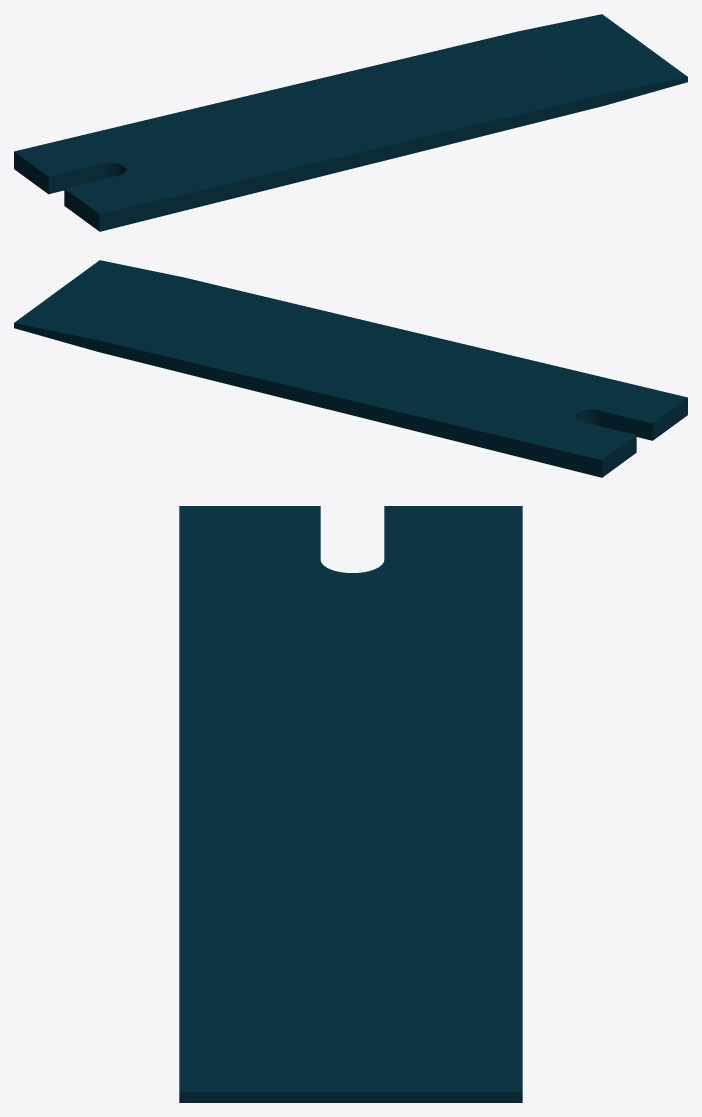
File: SSD component.glb
3 views of the same model, one above another, from view 1: azimuth 30°, elevation 25°; view 2: azimuth 150°, elevation 25°; view 3: azimuth 270°, elevation 25° (orthographic). The views are drawn at different scales.
Visible parts, largest first — view 1: SSD component; view 2: SSD component; view 3: SSD component.
Part boxes in pixels (x1,y1,x2,y2): SSD component: (14, 14, 687, 231); SSD component: (14, 260, 687, 477); SSD component: (179, 506, 522, 1102).
Bounding box in the file's own units: 1.79 × 0.0512 × 0.4523.
